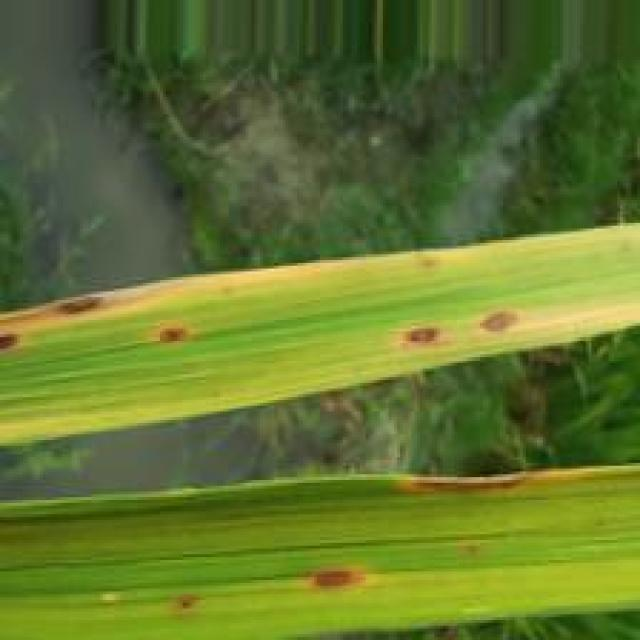Brown_Spot: (401, 473, 527, 494), (304, 563, 371, 594), (48, 294, 114, 319), (395, 322, 443, 348), (474, 307, 518, 335), (153, 320, 193, 348), (174, 591, 197, 614), (0, 331, 21, 350)
